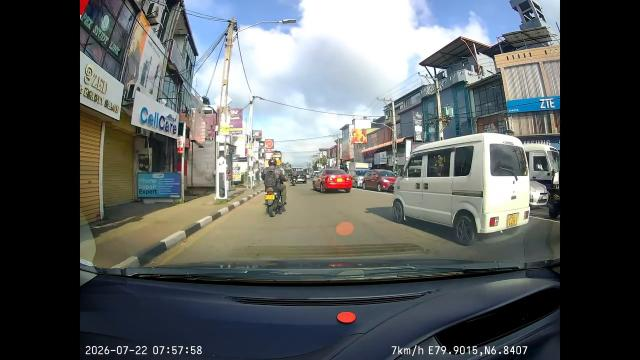number plate: (506, 214, 522, 229), (262, 193, 278, 202)
